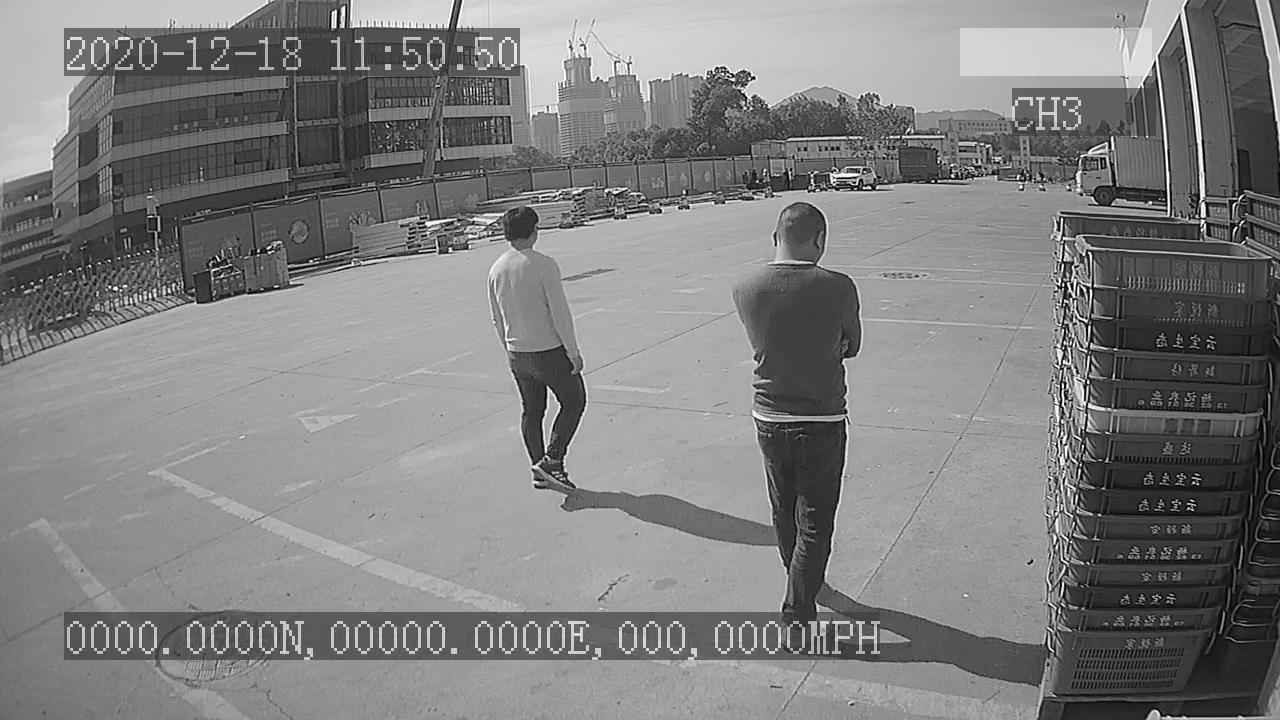person: (481, 206, 593, 504)
